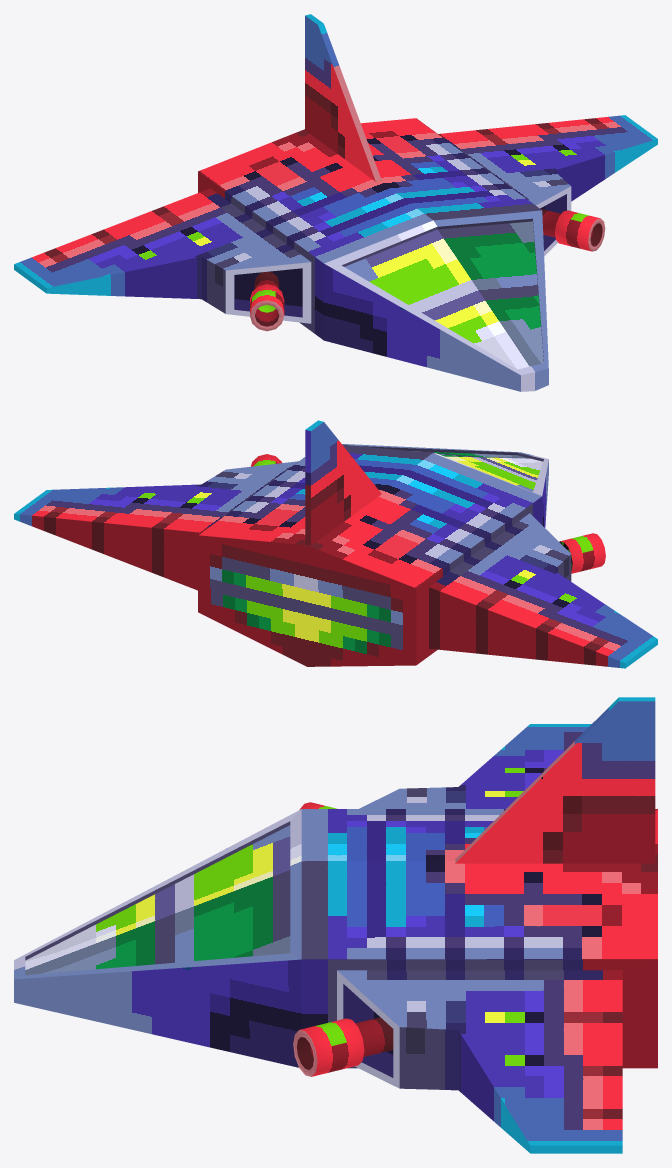
Rendered from SpaceShip.glb.
3 renders of one model, top to bottom at view 1: azimuth 30°, elevation 25°; view 2: azimuth 150°, elevation 25°; view 3: azimuth 270°, elevation 25°, orthographic. The views are drawn at different scales.
Visible parts, largest first — view 1: Object_4; view 2: Object_4; view 3: Object_4.
Part boxes in pixels (x1=…): Object_4: x1=14, y1=14, x2=657, y2=391; Object_4: x1=14, y1=420, x2=657, y2=668; Object_4: x1=14, y1=697, x2=657, y2=1153.
Bounding box in the file's own units: 0.1501 × 0.0553 × 0.0968.
1 material, 1 textured.
